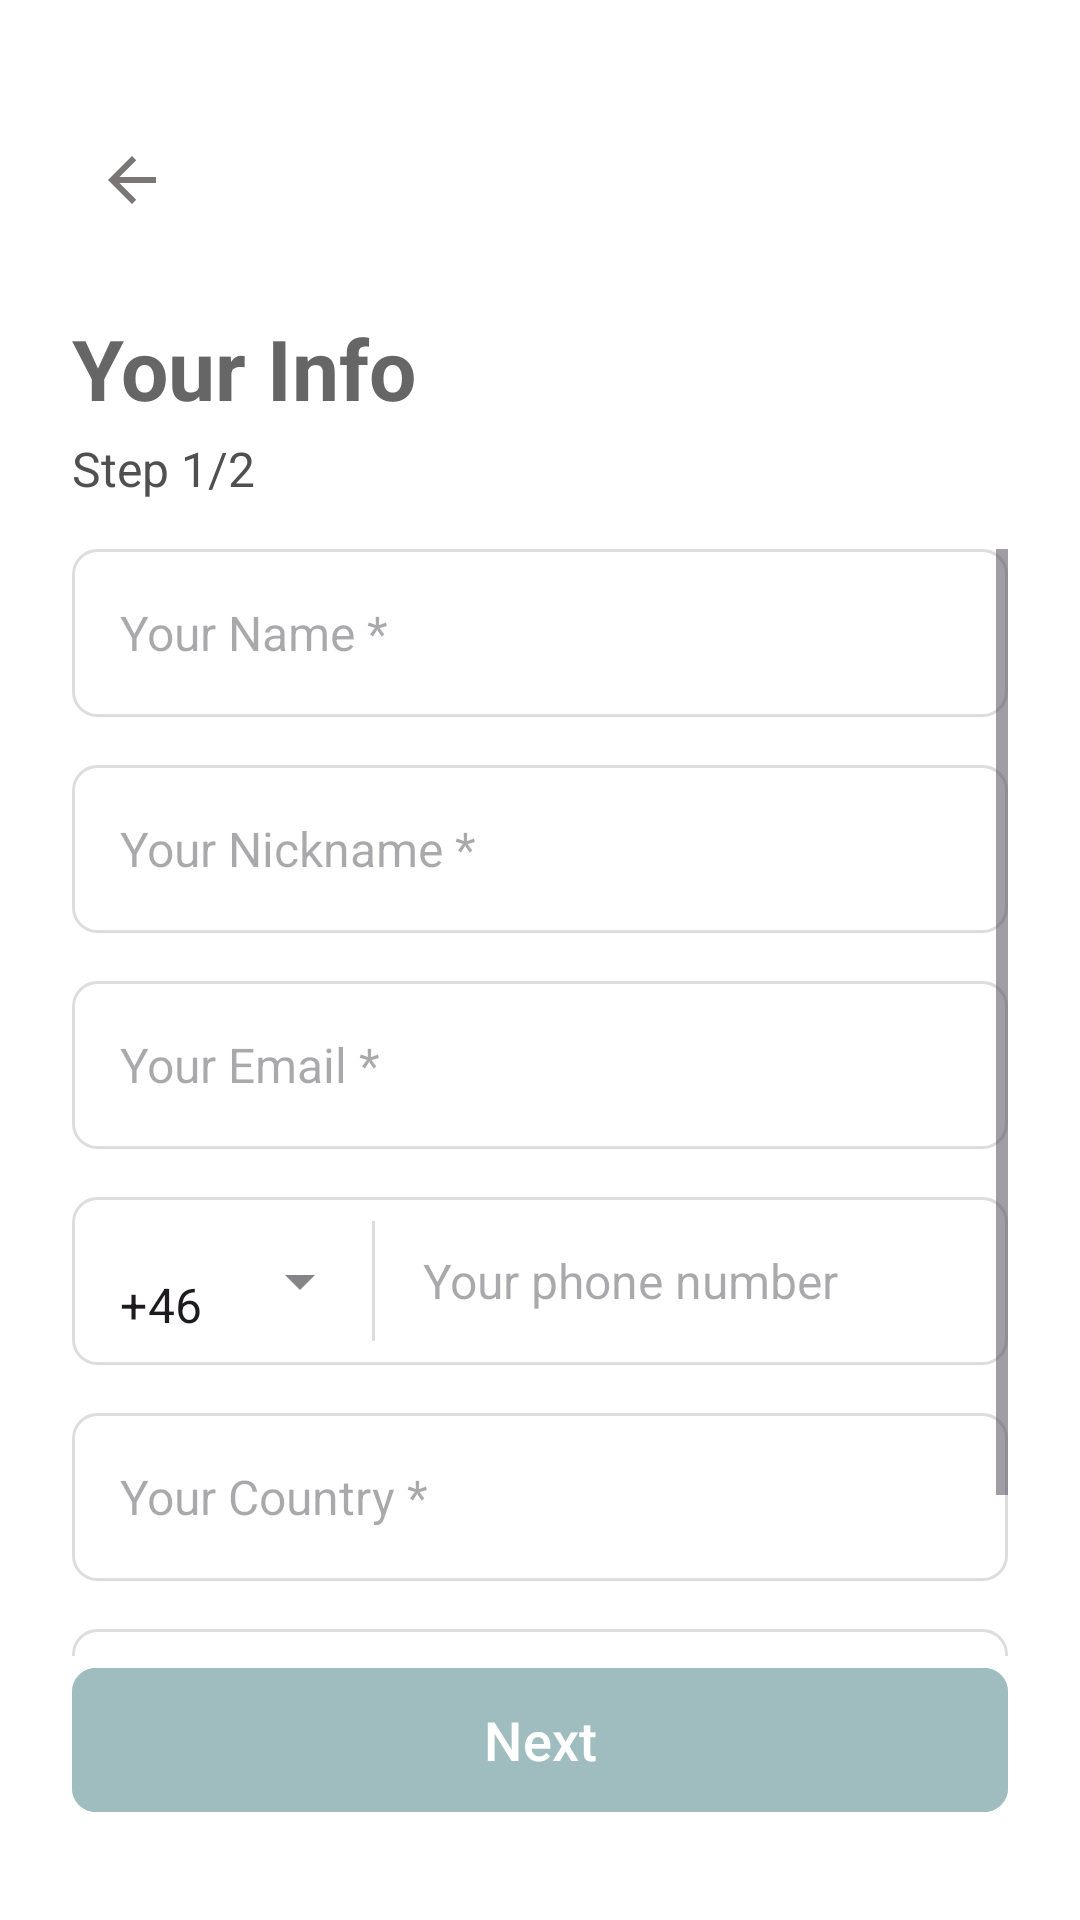

Named icons in this screenshot (1080x1920) and their bounding boxes, (x1, y1, x2, y2):
arrow back: (108, 156, 156, 204)
